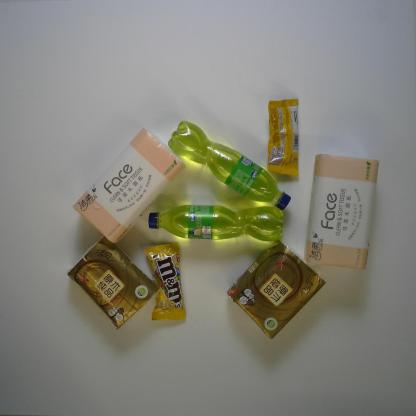Chocolate: (142, 242, 187, 324), (265, 97, 302, 179)
Drink: (166, 119, 292, 211), (146, 203, 286, 244)
Tissue: (71, 126, 180, 247), (226, 238, 328, 338), (302, 152, 381, 274), (63, 233, 160, 331)
